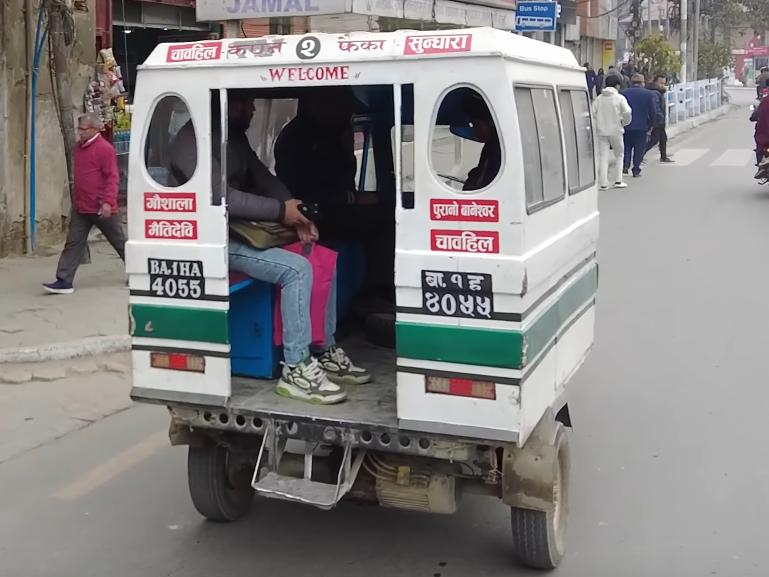tempo: (113, 23, 618, 573)
